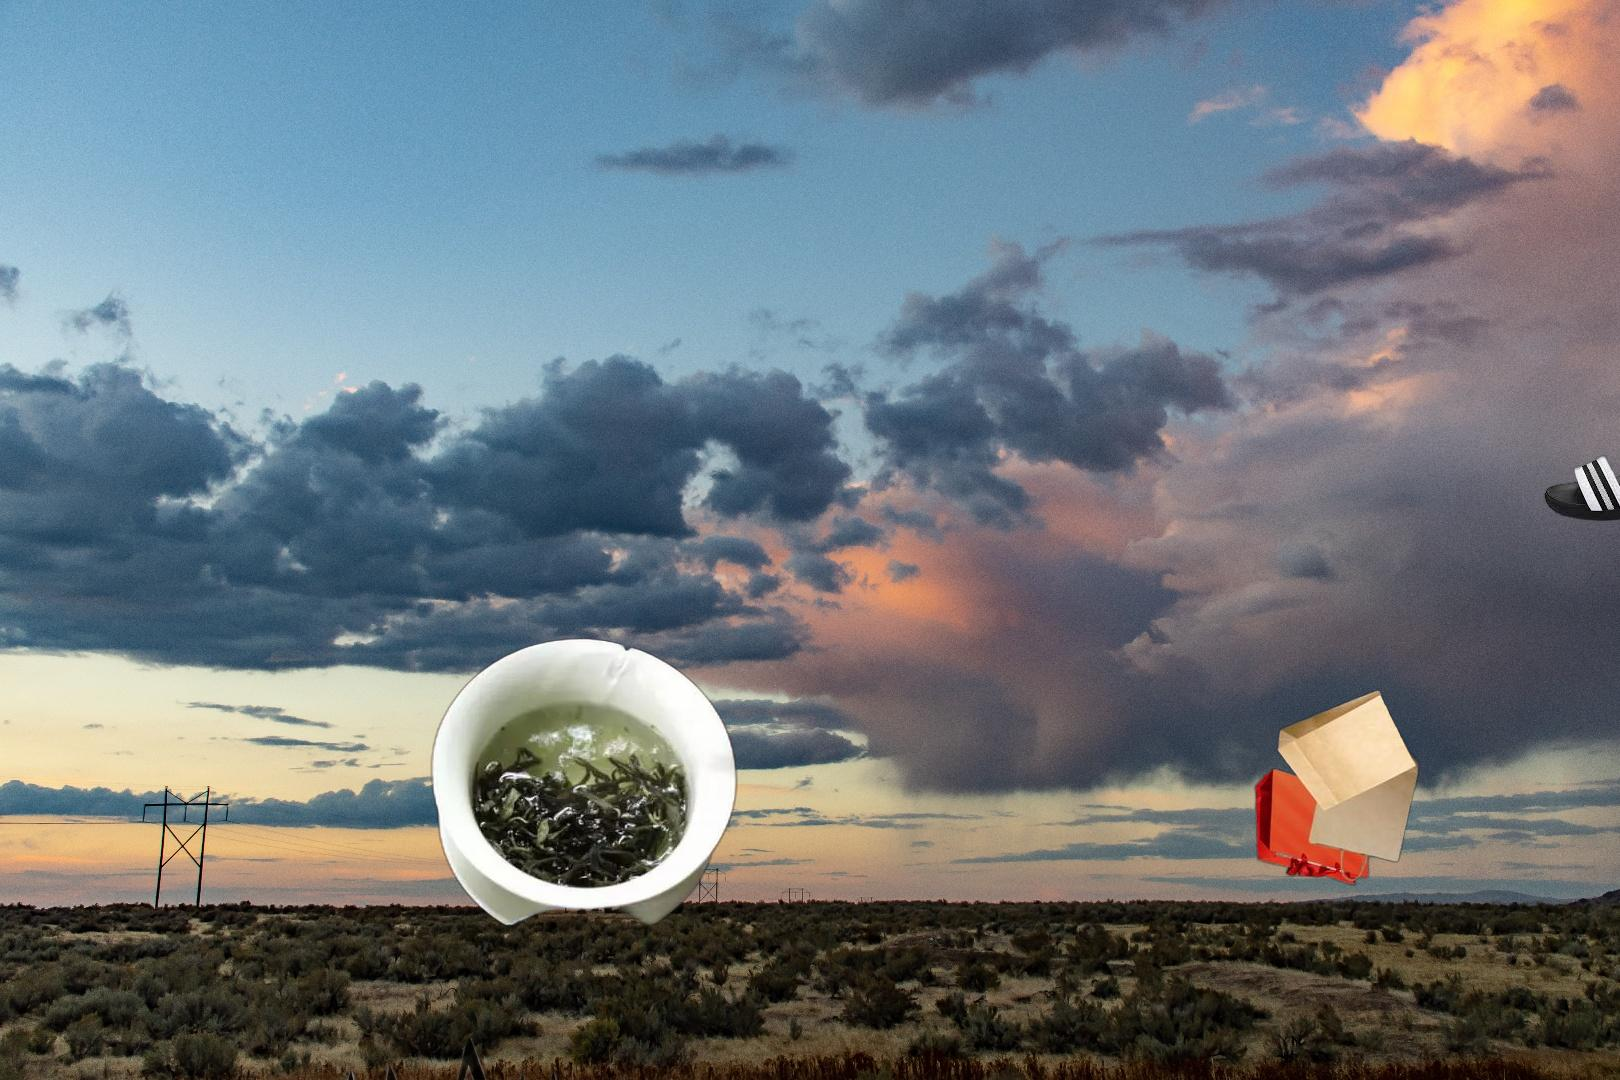biological: (425, 634, 742, 972)
paper-bag: (1254, 687, 1422, 888)
penholder: (49, 1038, 1025, 1080)
shoes: (1542, 416, 1620, 524)
